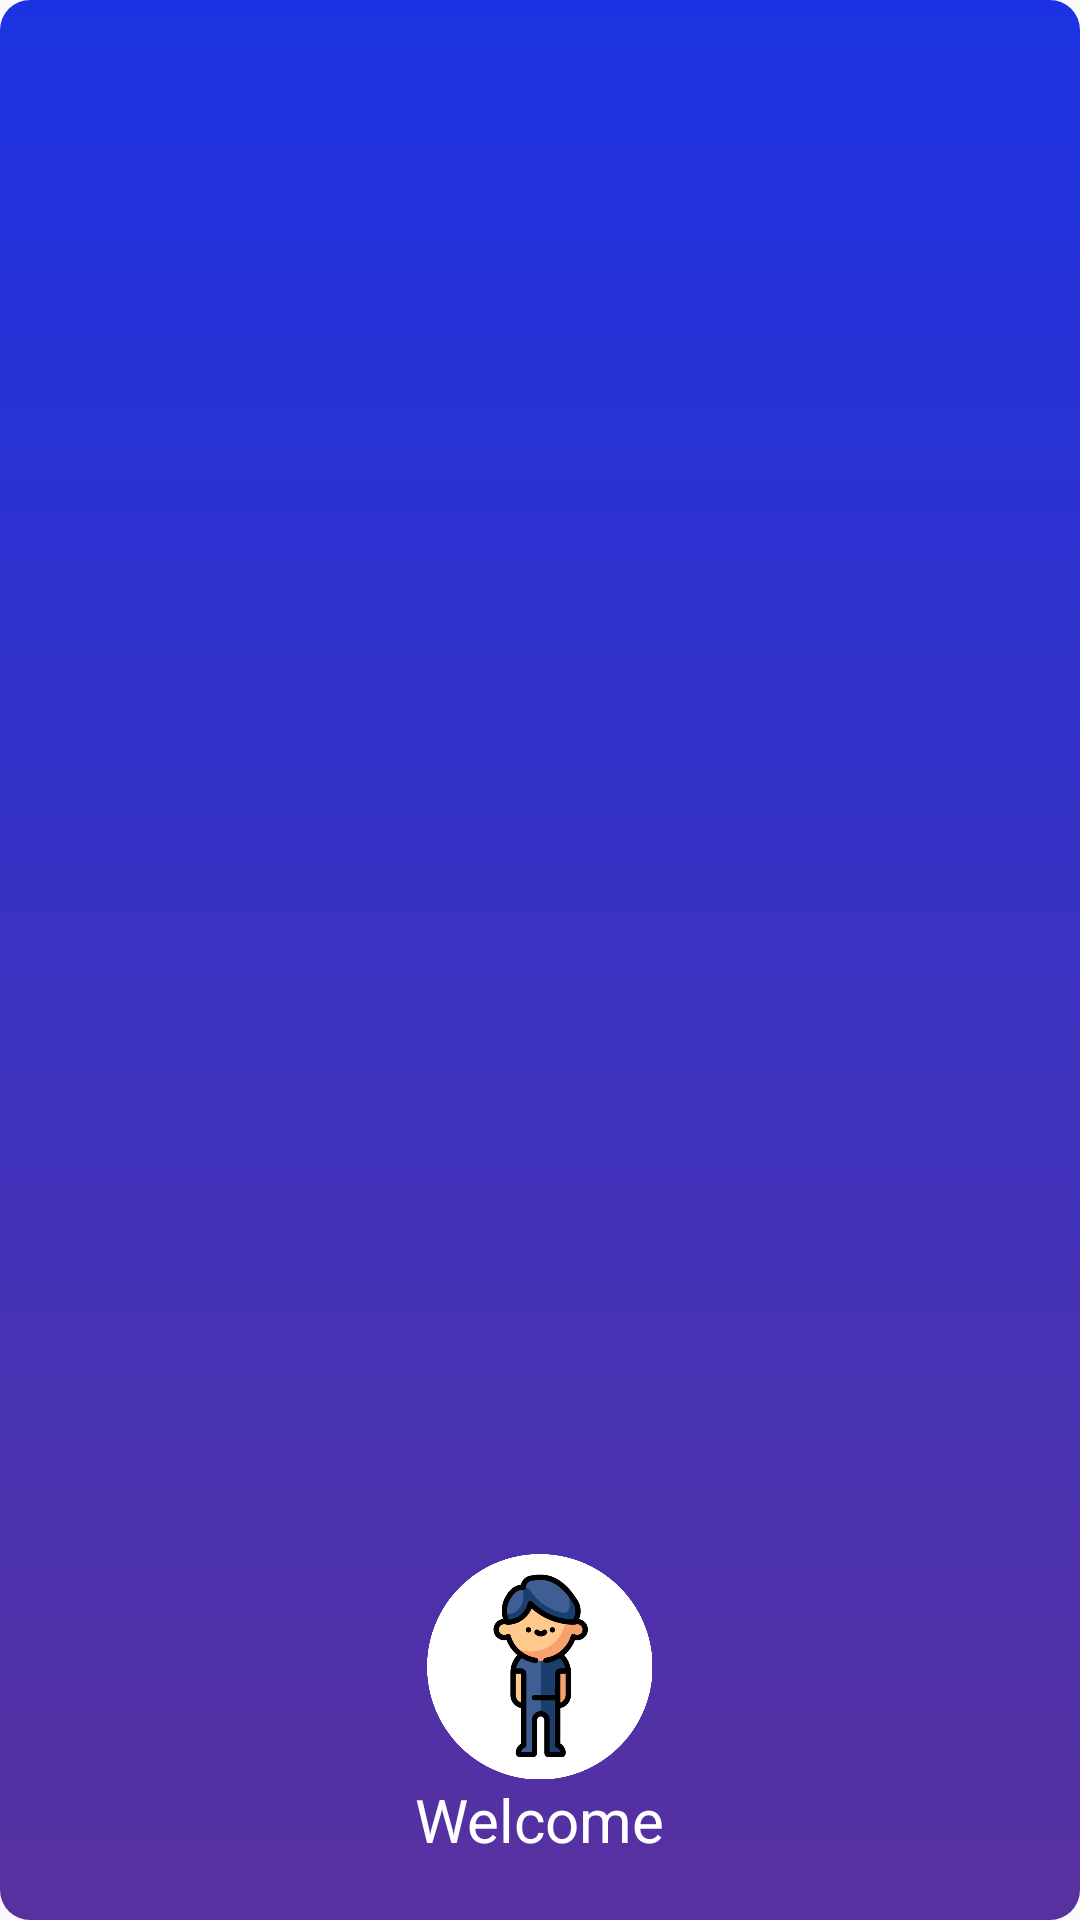

Screen size 1080px x 1920px. Icon name, then its box in pixels as (x1, y1, x2, y2):
profile: (427, 1554, 652, 1779)
